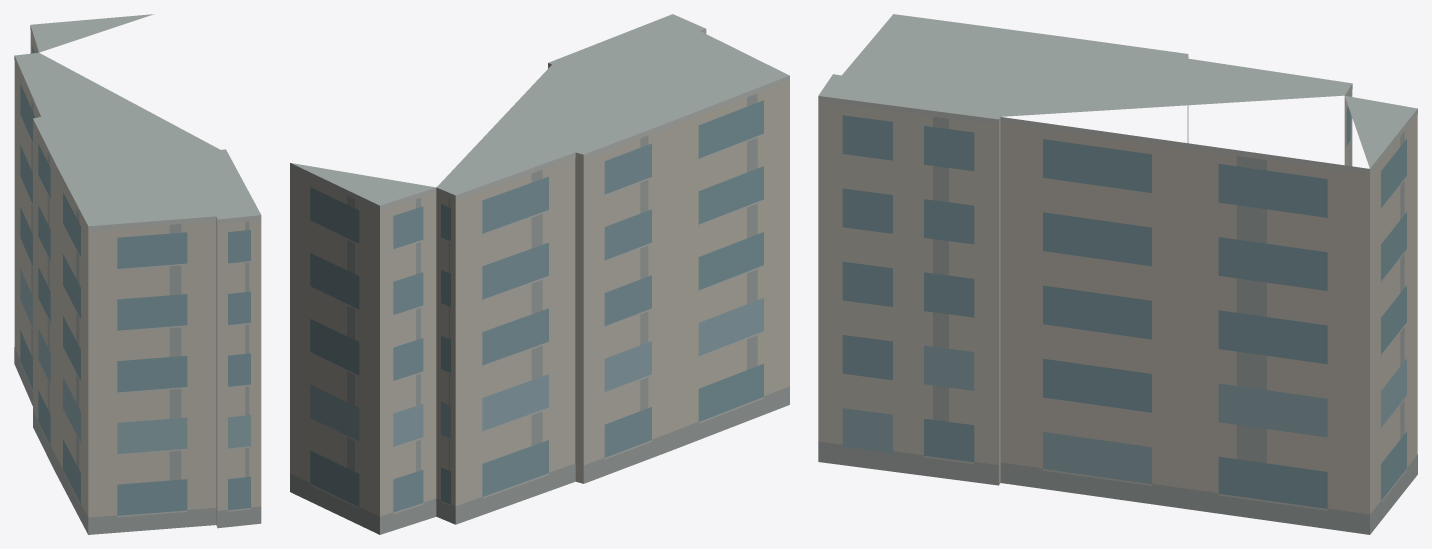
The model's file is survey-upis-32491022.glb.
3 views of the same model, side by side, from view 1: azimuth 30°, elevation 25°; view 2: azimuth 150°, elevation 25°; view 3: azimuth 270°, elevation 25° (orthographic). The views are drawn at different scales.
Parts seen in each view (by area): view 1: survey-upis-32491022.tmp; view 2: survey-upis-32491022.tmp; view 3: survey-upis-32491022.tmp.
Boxes of the visible parts, box(x1,y1,x2,y2) form: survey-upis-32491022.tmp: box(14, 14, 261, 534); survey-upis-32491022.tmp: box(290, 14, 789, 534); survey-upis-32491022.tmp: box(818, 14, 1417, 534).
Bounding box in the file's own units: 13.84 × 15.25 × 22.65.
